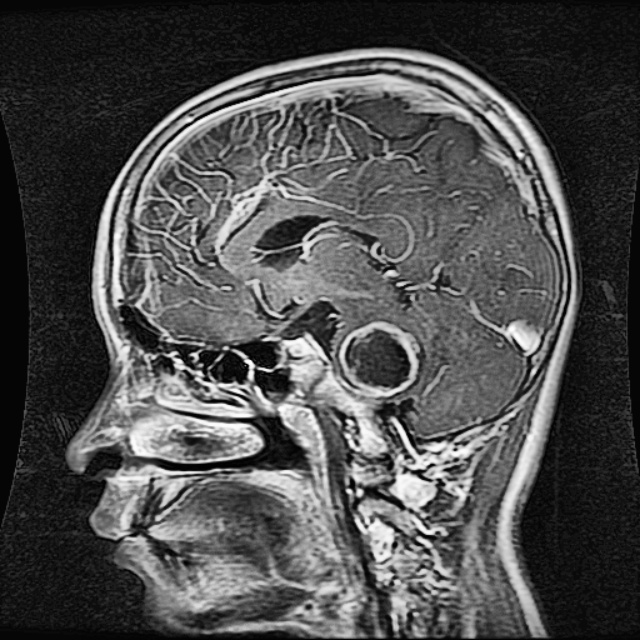Meningioma: (338, 320, 418, 392)
